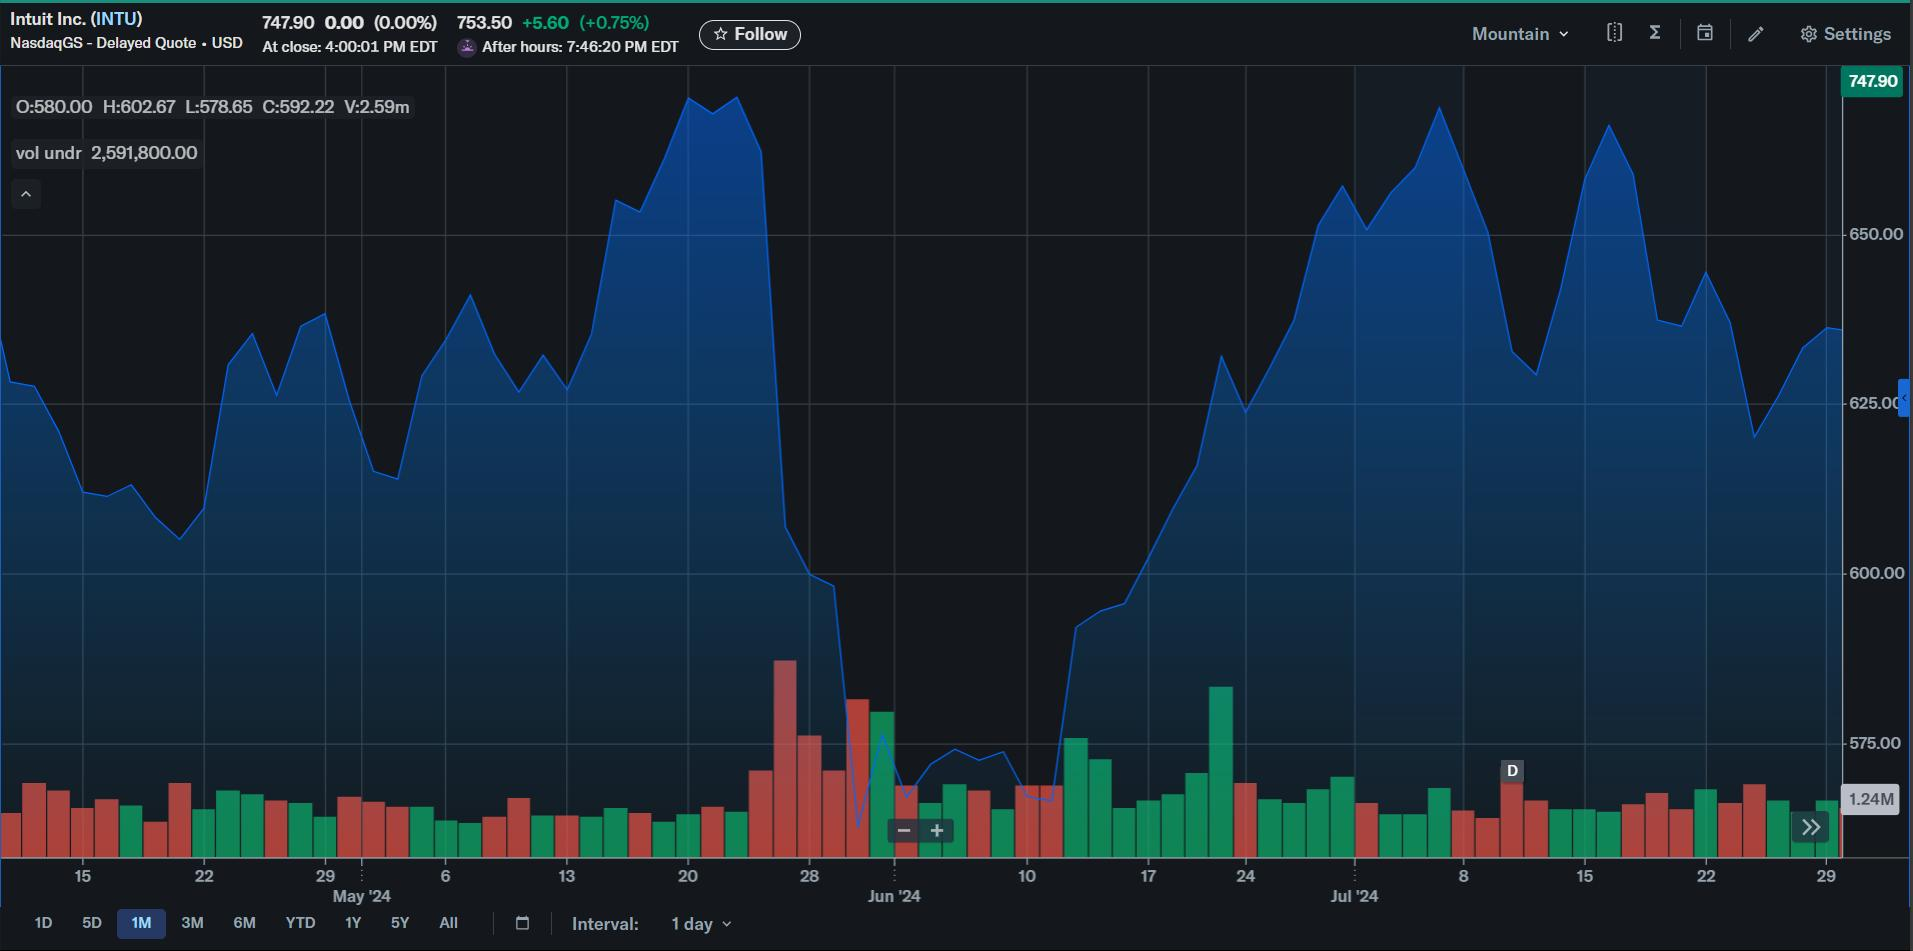Downtrend: (732, 88, 865, 826), (1427, 99, 1547, 389), (312, 294, 386, 492)
Uptrend: (1042, 93, 1451, 808), (558, 90, 697, 397)
